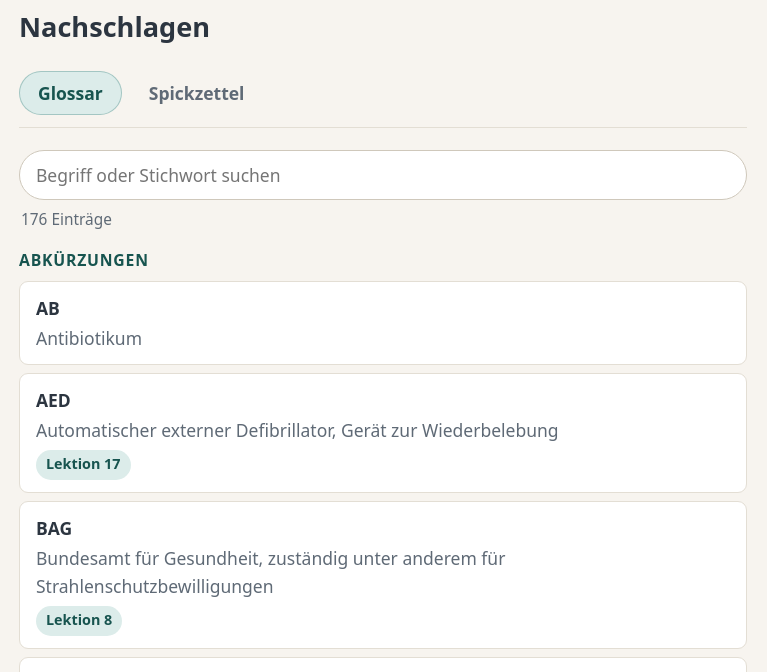
Test: glossary search › filters entries live by term and explanation
Expected: the text "176 Einträge" is shown, [21,210,112,230]
Type "Abutment" into the search field named "Glossar durchsuchen". click: (383, 176)
box: [19,150,747,200]
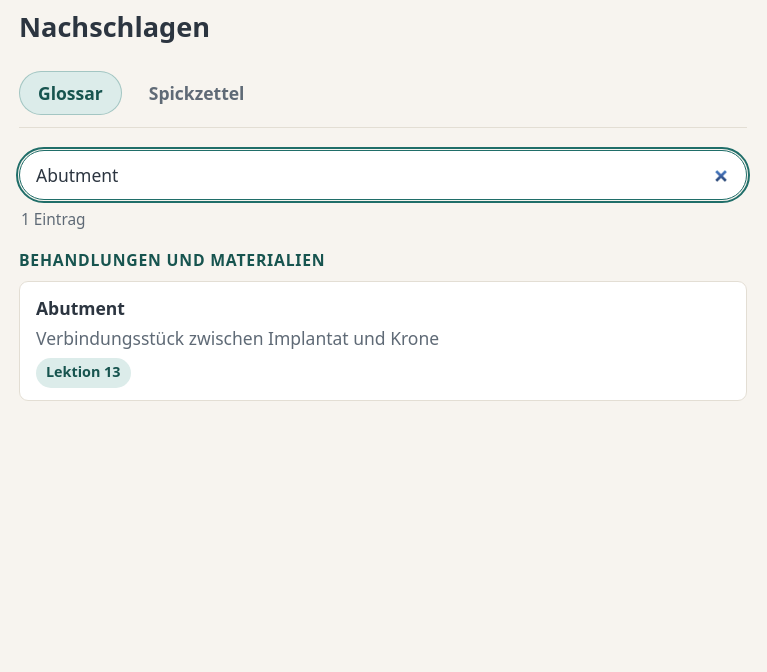
Expected: the text "Verbindungsstück zwischen Implantat und Krone" is shown, [36,326,439,350]
Expected: the text "1 Eintrag" is shown, [21,210,86,230]
Replace the text in the search field named "Glossar durchsuchen" with "Wiederbelebung". click: (383, 176)
box: [19,150,747,200]
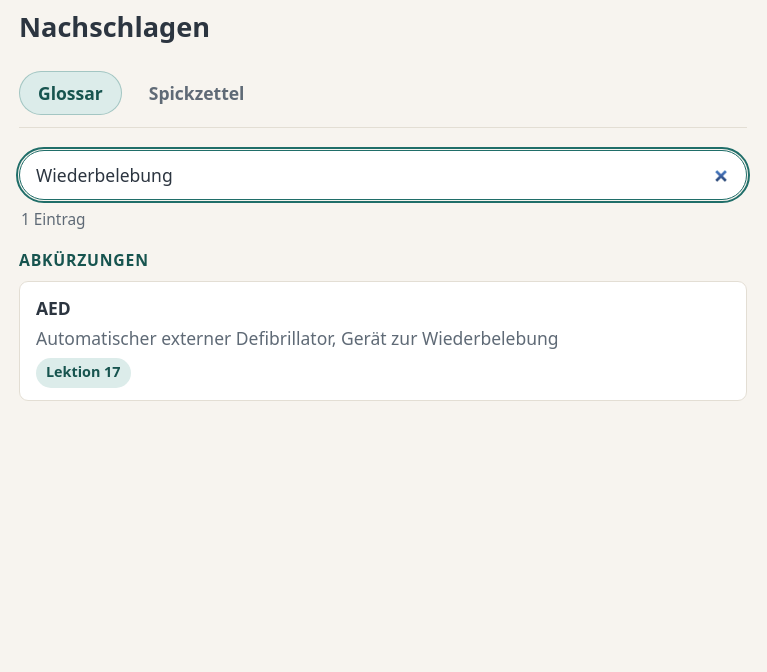
Result: the text "AED" is shown at [36,296,71,320]
Replace the text in the search field named "Glossar durchsuchen" with "gibtesnicht123". click: (383, 176)
box: [19,150,747,200]
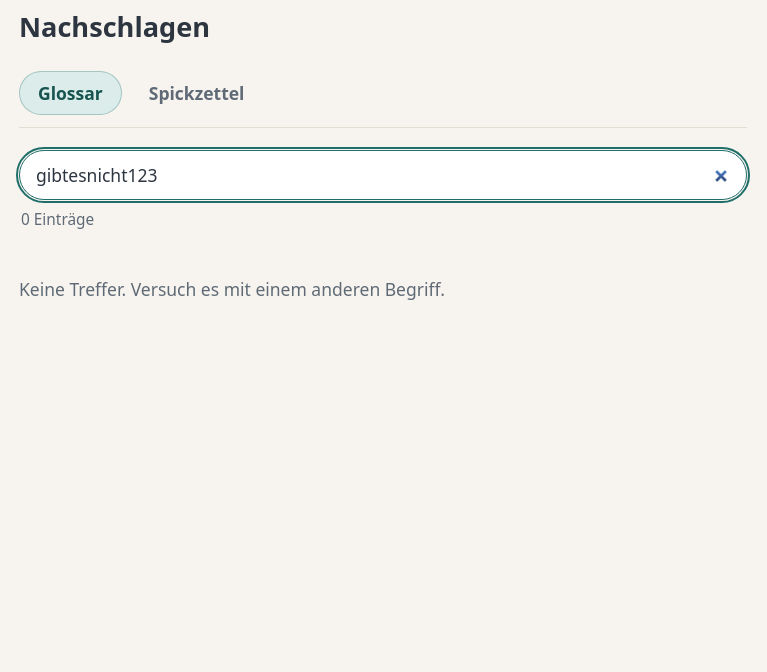
Result: the text "Keine Treffer. Versuch es mit einem anderen Begriff." is shown at [19,277,445,301]
